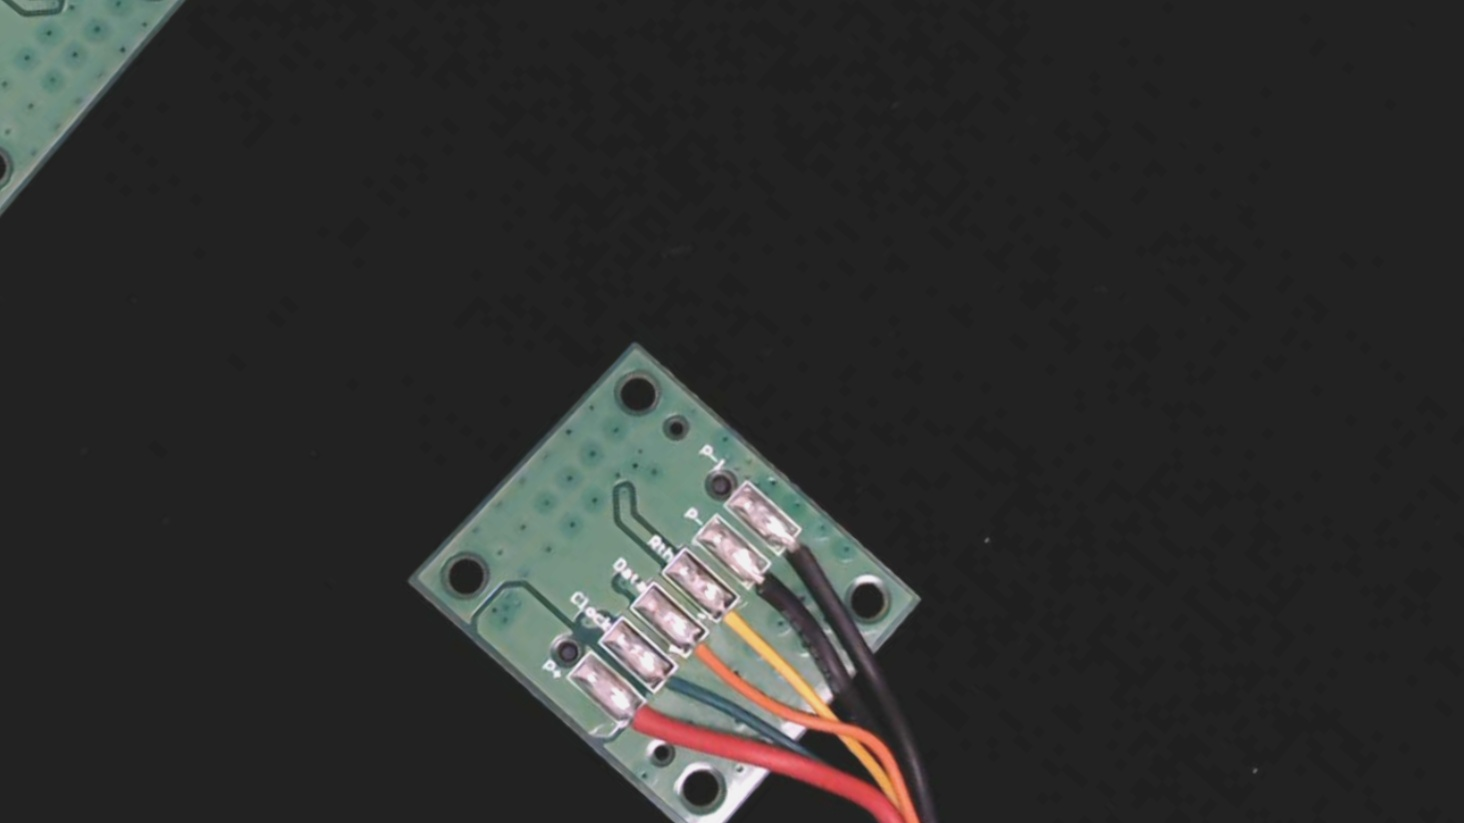Black: (726, 544, 818, 631)
Black1: (759, 511, 846, 594)
Green: (628, 640, 719, 727)
Orange: (665, 615, 756, 700)
Red: (600, 677, 692, 764)
Yellow: (698, 579, 792, 668)
